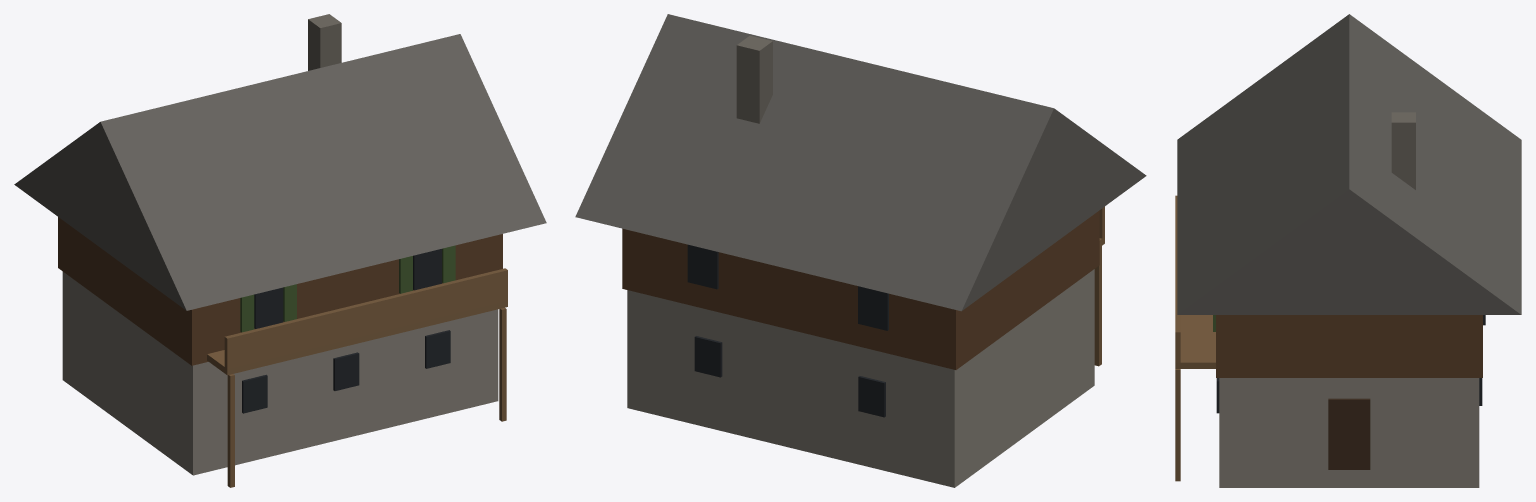
The model's file is mountain_hut_a.glb.
3 renders of one model, left to right at view 1: azimuth 30°, elevation 25°; view 2: azimuth 150°, elevation 25°; view 3: azimuth 270°, elevation 25°, orthographic. The views are drawn at different scales.
Visible parts, largest first — view 1: mountain_hut_a; view 2: mountain_hut_a; view 3: mountain_hut_a.
Part boxes in pixels (box(x1,y1,x2,y2)): mountain_hut_a: box(14, 14, 546, 487); mountain_hut_a: box(575, 14, 1146, 487); mountain_hut_a: box(1175, 14, 1521, 487).
Size of the model in its own units: 11.8 by 10.4 by 9.85.
